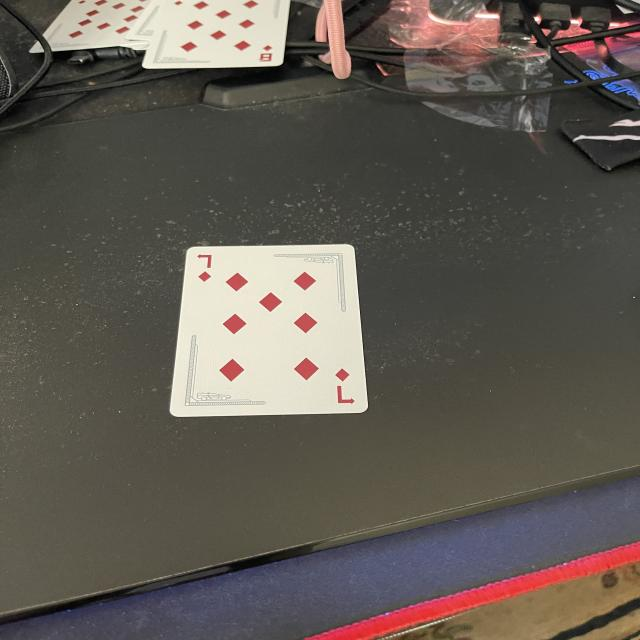7 of diamonds: (171, 245, 370, 416)
8 of diamonds: (144, 1, 288, 68)
